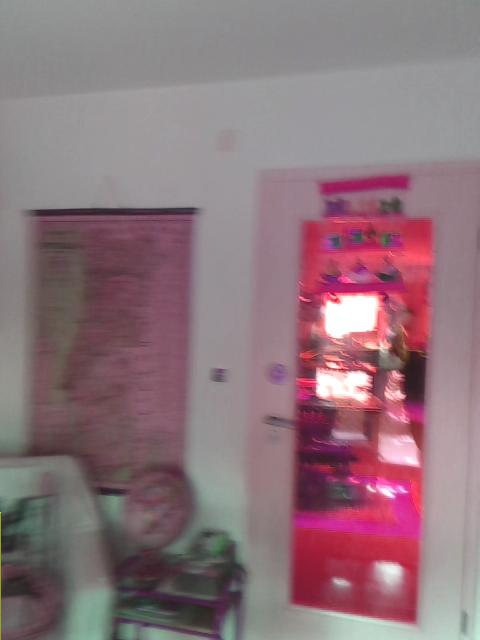closed_door: (250, 158, 479, 634)
